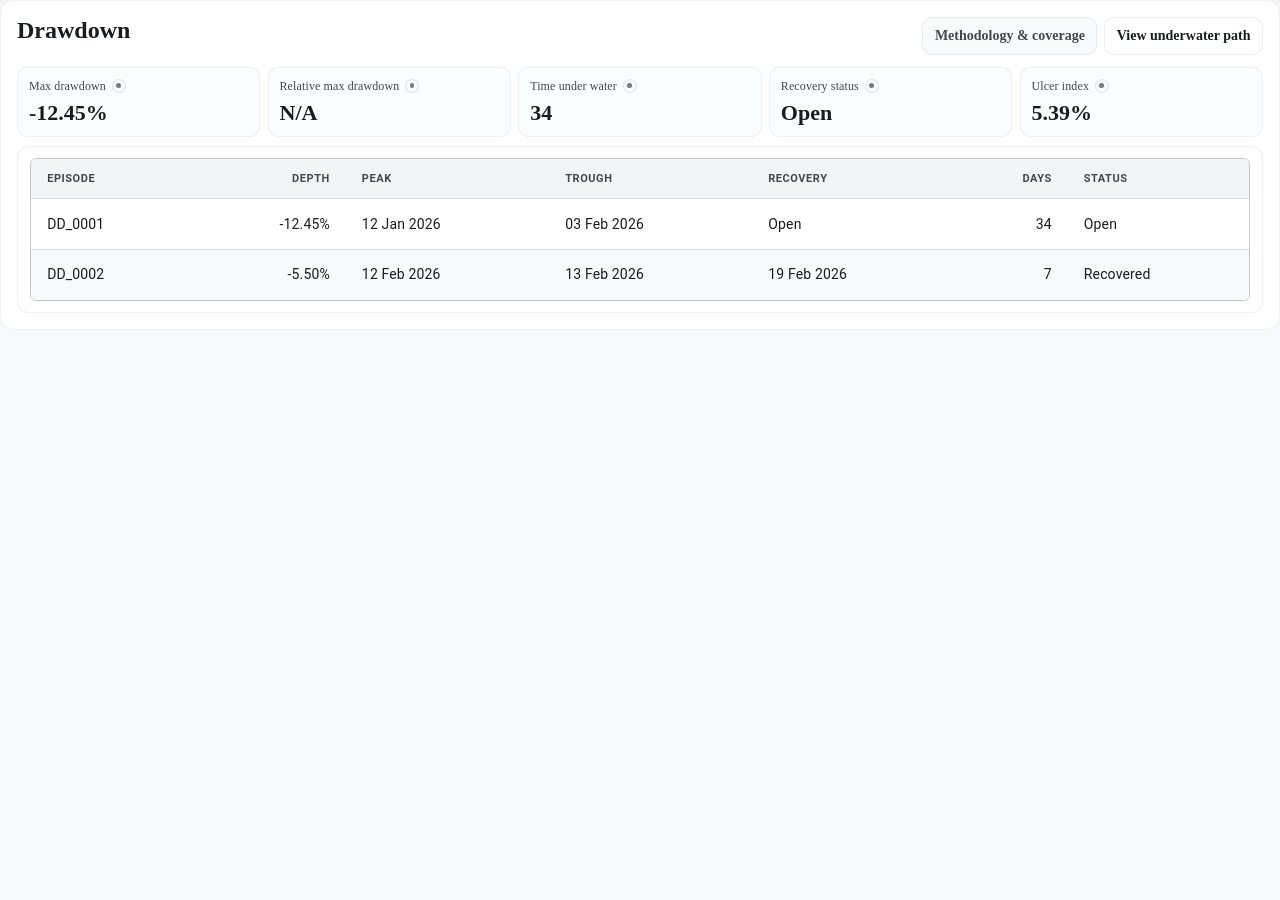
Test: RiskDrawdownPanel › qualifies benchmark-relative interpretation when benchmark context is unavailable
Expected: the text "N/A" is shown, [280,100,317,125]
Step 1. Click the button with aria-label "Drawdown methodology and coverage" → (1010, 36), box [922,17,1098,55]
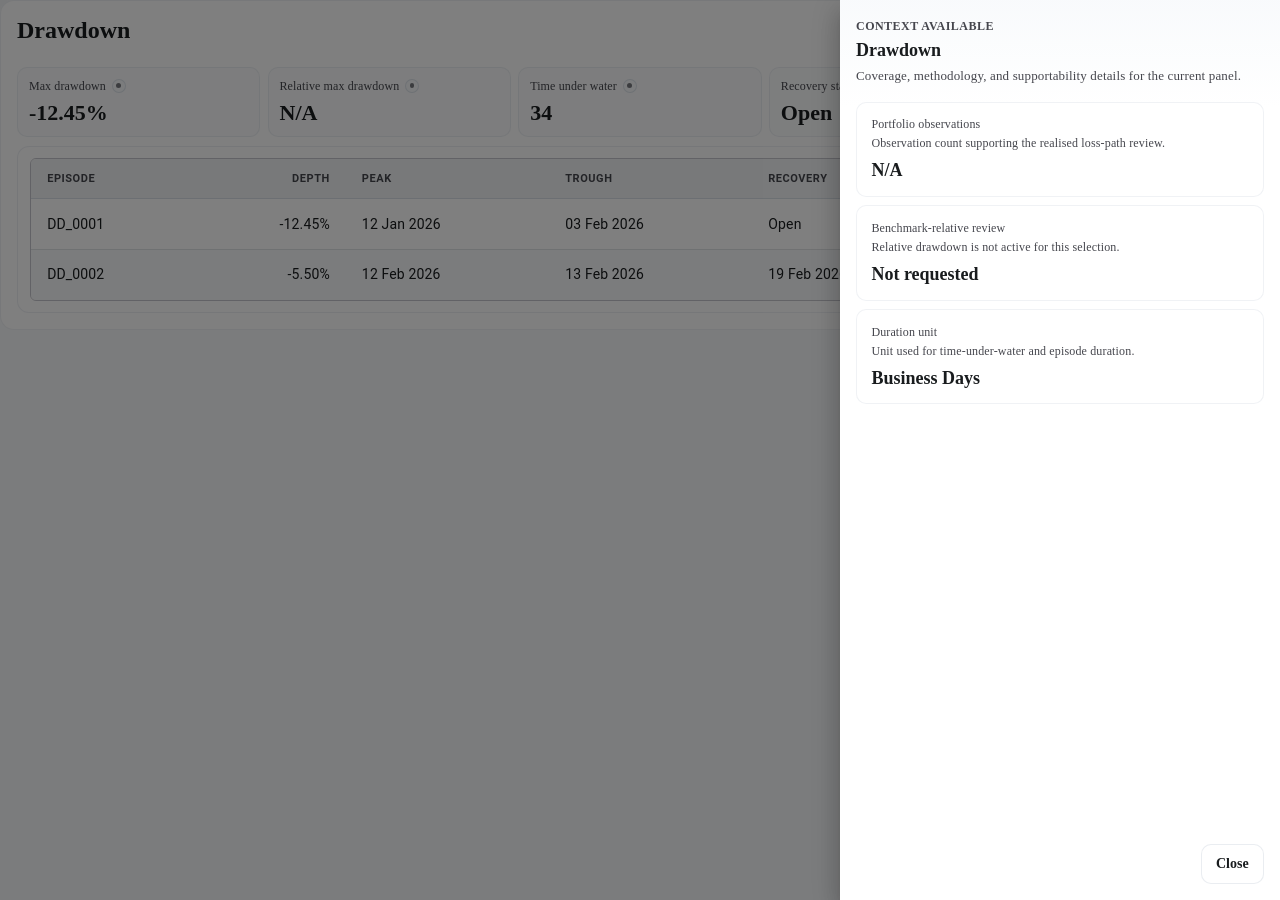
Expected: the text "Relative drawdown is not active for this selection." is shown, [871,240,1120,254]
